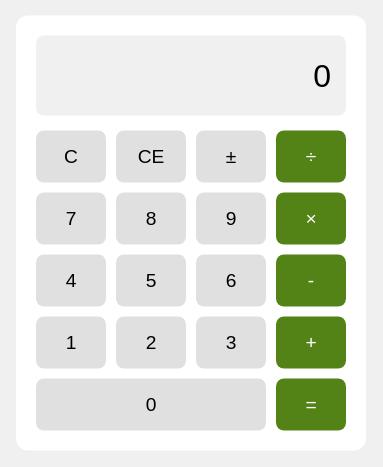
Test case: basic arithmetic operations › basic subtraction
What coordinates should you click on to do the following:
click the button "1"
I would click on:
 (71, 342)
Its box is top-left (36, 316), bottom-right (106, 368).
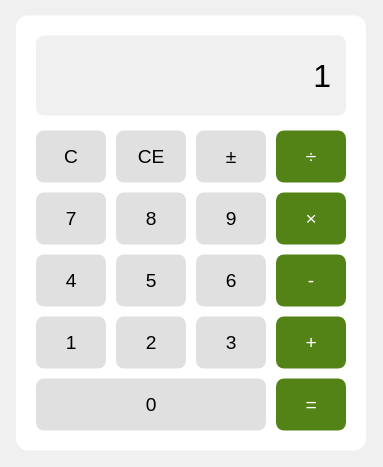
What coordinates should you click on to do the following:
click the button "-"
I would click on:
 (311, 280)
Its box is top-left (276, 254), bottom-right (346, 306).
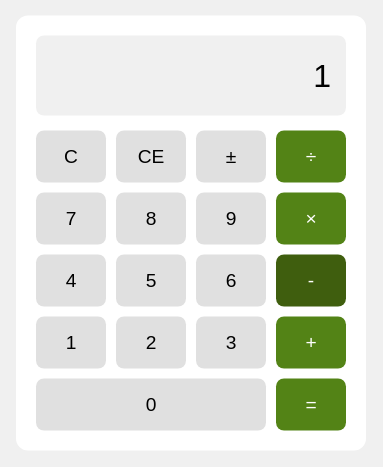
What coordinates should you click on to do the following:
click the button "2"
I would click on:
 (151, 342)
Its box is top-left (116, 316), bottom-right (186, 368).
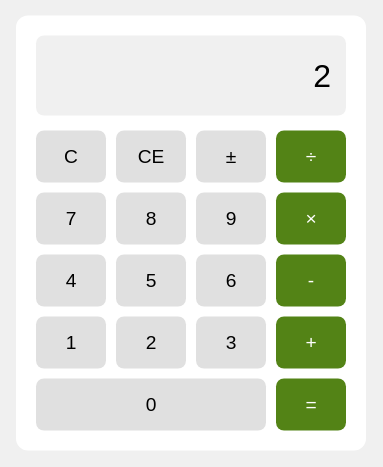
What coordinates should you click on to do the following:
click the button "="
I would click on:
 (311, 404)
Its box is top-left (276, 378), bottom-right (346, 430).
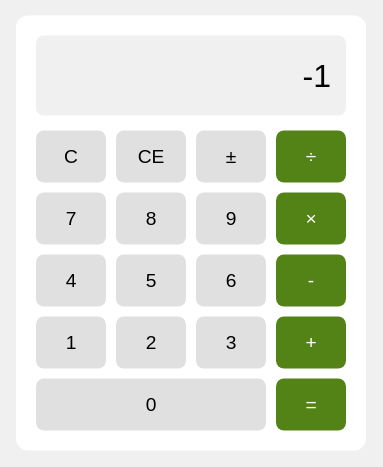
expect the text "0" reads "-1": met, box top-left (302, 57), bottom-right (331, 93)
